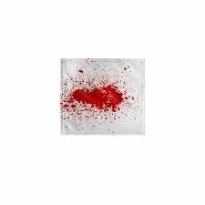blood: (69, 84, 124, 111)
